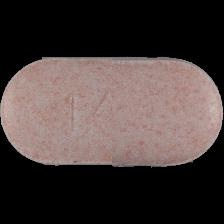54868-5505: (0, 0, 224, 224)
